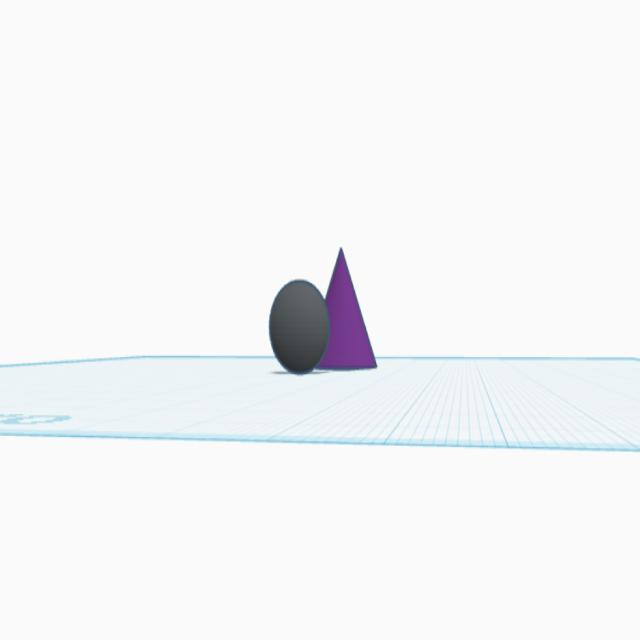sphere: (268, 275, 332, 379)
